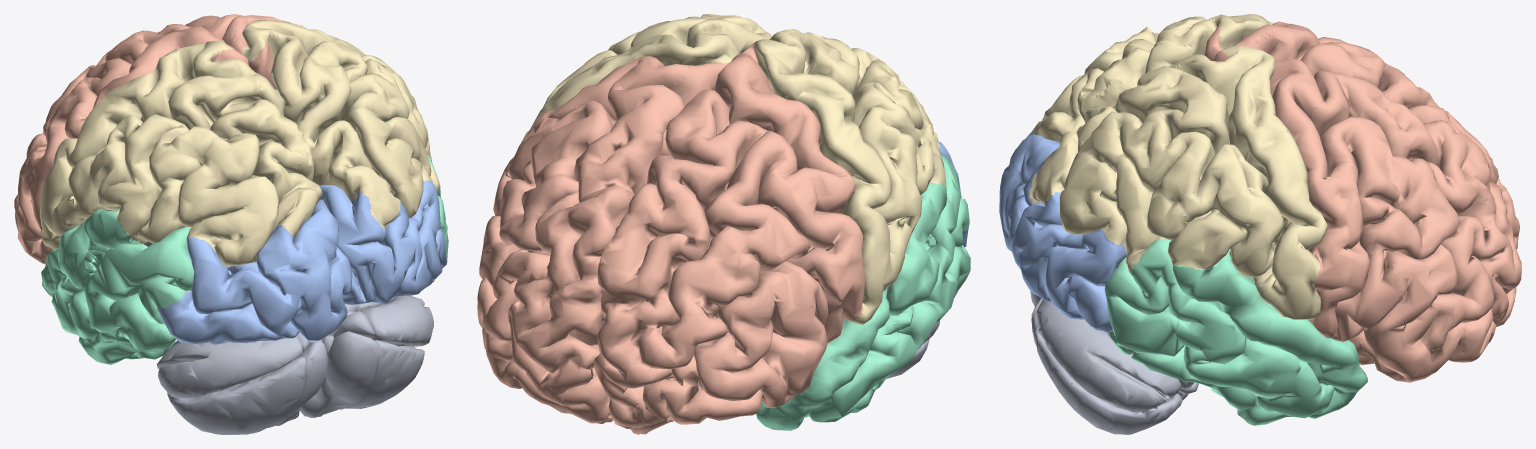
File: cerebro.glb
3 renders of one model, left to right at view 1: azimuth 30°, elevation 25°; view 2: azimuth 150°, elevation 25°; view 3: azimuth 270°, elevation 25°, orthographic. The views are drawn at different scales.
Parts seen in each view (by area): view 1: lh_lateraloccipital, lh_inferiorparietal, lh_cerebellum, lh_superiorparietal, rh_cerebellum, rh_superiorparietal, lh_postcentral, rh_inferiorparietal, lh_supramarginal, lh_middletemporal, rh_lateraloccipital, lh_precentral (+15 smaller); view 2: lh_rostralmiddlefrontal, lh_superiorfrontal, rh_superiorfrontal, lh_precentral, rh_rostralmiddlefrontal, lh_postcentral, lh_superiortemporal, lh_middletemporal, lh_supramarginal, lh_caudalmiddlefrontal, rh_precentral, rh_postcentral (+15 smaller); view 3: rh_inferiorparietal, rh_middletemporal, rh_rostralmiddlefrontal, rh_postcentral, rh_cerebellum, rh_precentral, rh_superiorfrontal, rh_supramarginal, rh_superiorparietal, rh_lateraloccipital, rh_superiortemporal, rh_parstriangularis (+13 smaller).
Boxes of the visible parts, x1,y1,x2,y2 form: lh_lateraloccipital: [158, 225, 347, 344]; lh_inferiorparietal: [137, 126, 278, 266]; lh_cerebellum: [156, 332, 327, 434]; lh_superiorparietal: [168, 59, 322, 239]; rh_cerebellum: [299, 295, 433, 417]; rh_superiorparietal: [270, 29, 400, 229]; lh_postcentral: [39, 41, 233, 249]; rh_inferiorparietal: [340, 59, 439, 217]; lh_supramarginal: [58, 114, 188, 240]; lh_middletemporal: [51, 226, 194, 338]; rh_lateraloccipital: [371, 180, 447, 304]; lh_precentral: [23, 26, 236, 230]; lh_rostralmiddlefrontal: [635, 226, 780, 425]; lh_superiorfrontal: [594, 89, 754, 398]; rh_superiorfrontal: [516, 83, 684, 395]; lh_precentral: [718, 49, 864, 343]; rh_rostralmiddlefrontal: [477, 175, 579, 413]; lh_postcentral: [755, 39, 905, 324]; lh_superiortemporal: [773, 182, 946, 418]; lh_middletemporal: [808, 155, 960, 422]; lh_supramarginal: [853, 82, 946, 250]; lh_caudalmiddlefrontal: [704, 123, 809, 271]; rh_precentral: [493, 56, 713, 215]; rh_postcentral: [520, 31, 738, 143]; rh_inferiorparietal: [1059, 110, 1215, 273]; rh_middletemporal: [1104, 238, 1334, 418]; rh_rostralmiddlefrontal: [1359, 158, 1516, 362]; rh_postcentral: [1218, 45, 1327, 320]; rh_cerebellum: [1031, 298, 1199, 434]; rh_precentral: [1270, 59, 1370, 338]; rh_superiorfrontal: [1310, 70, 1521, 302]; rh_supramarginal: [1167, 144, 1283, 284]; rh_superiorparietal: [1029, 53, 1246, 204]; rh_lateraloccipital: [1009, 192, 1126, 332]; rh_superiortemporal: [1173, 249, 1367, 410]; rh_parstriangularis: [1363, 251, 1457, 379].
Bounding box in the file's own units: 0.3466 × 0.3393 × 0.4247.
